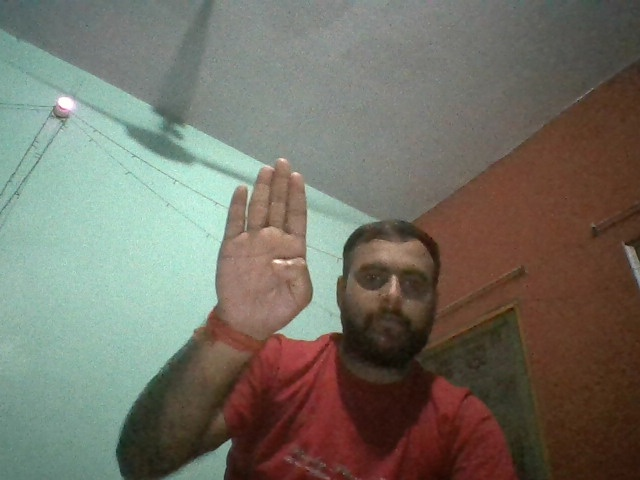hello: (216, 158, 313, 326)
